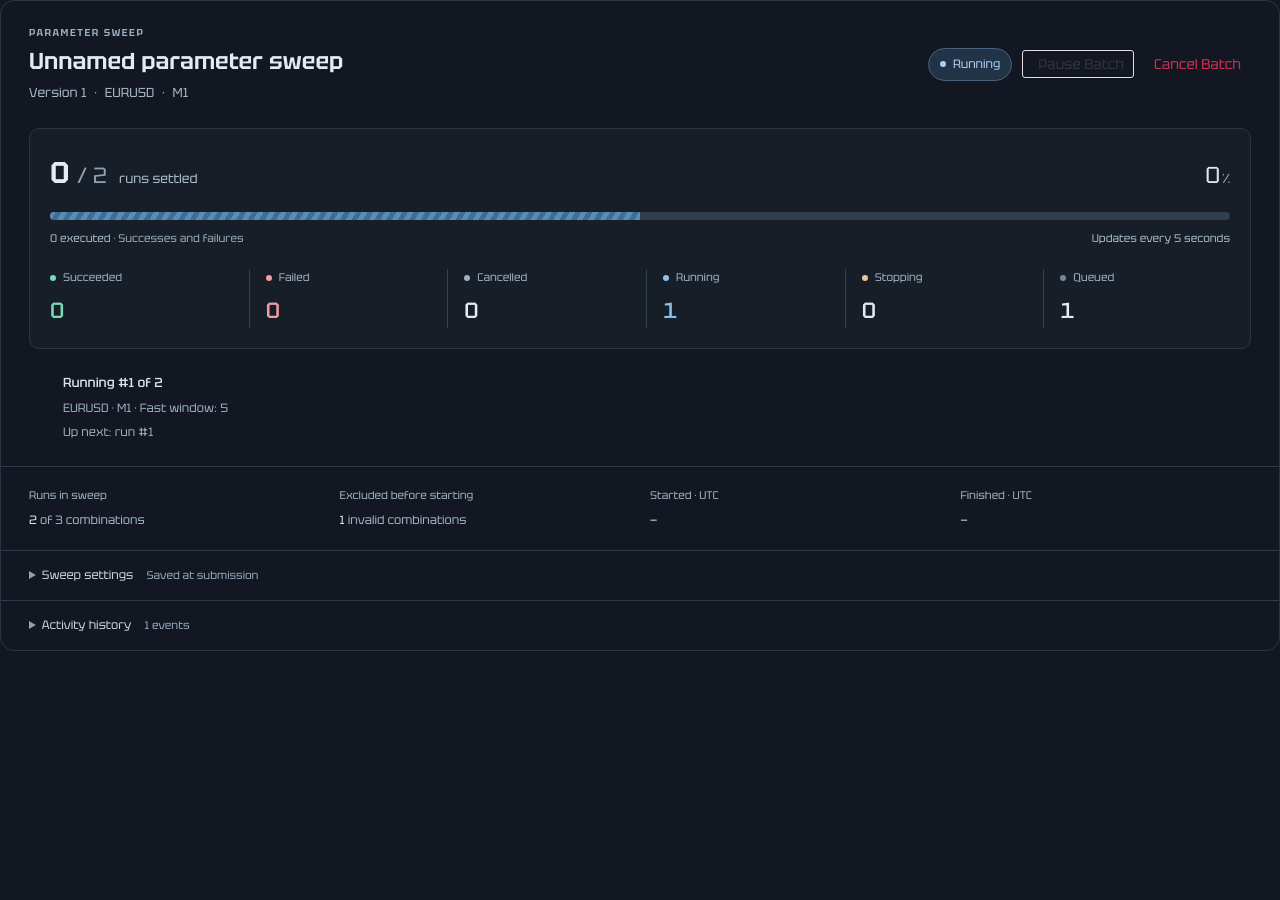
Test: accepted batch inspection › cancels an executing batch and keeps its active member visibly unsettled
Click the button with test id "workspace-cancel-batch". click: coordinates (1198, 64)
box: [1144, 50, 1251, 78]
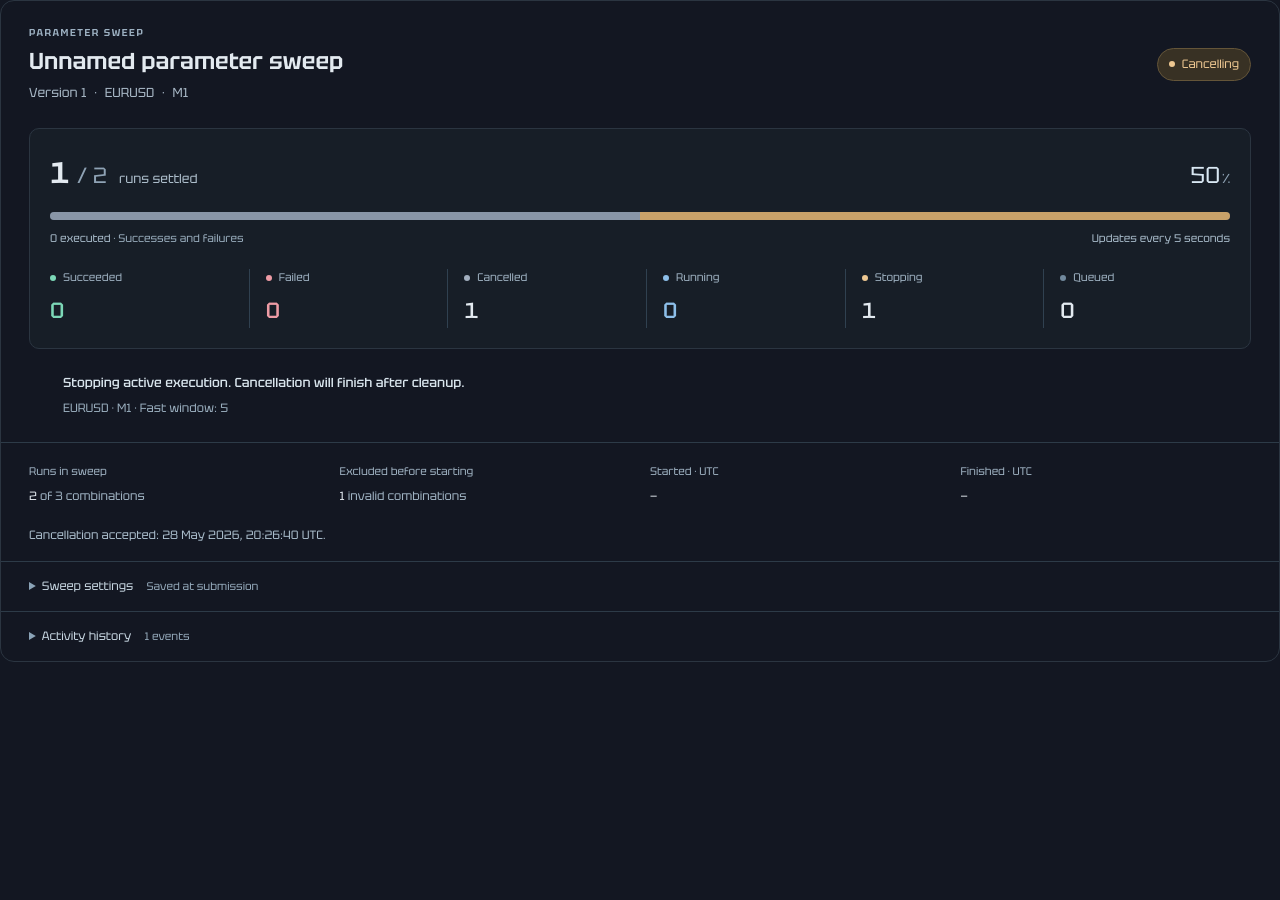
Expected: the text "0 executed" is shown, [50, 231, 113, 245]
Expected: the text "Cancellation will finish after cleanup" is shown, [63, 374, 465, 391]
Expected: the text "Cancellation accepted:" is shown, [29, 527, 326, 543]
